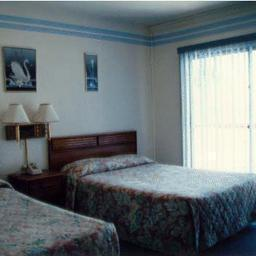Cama: (68, 151, 253, 250), (1, 189, 117, 254)
